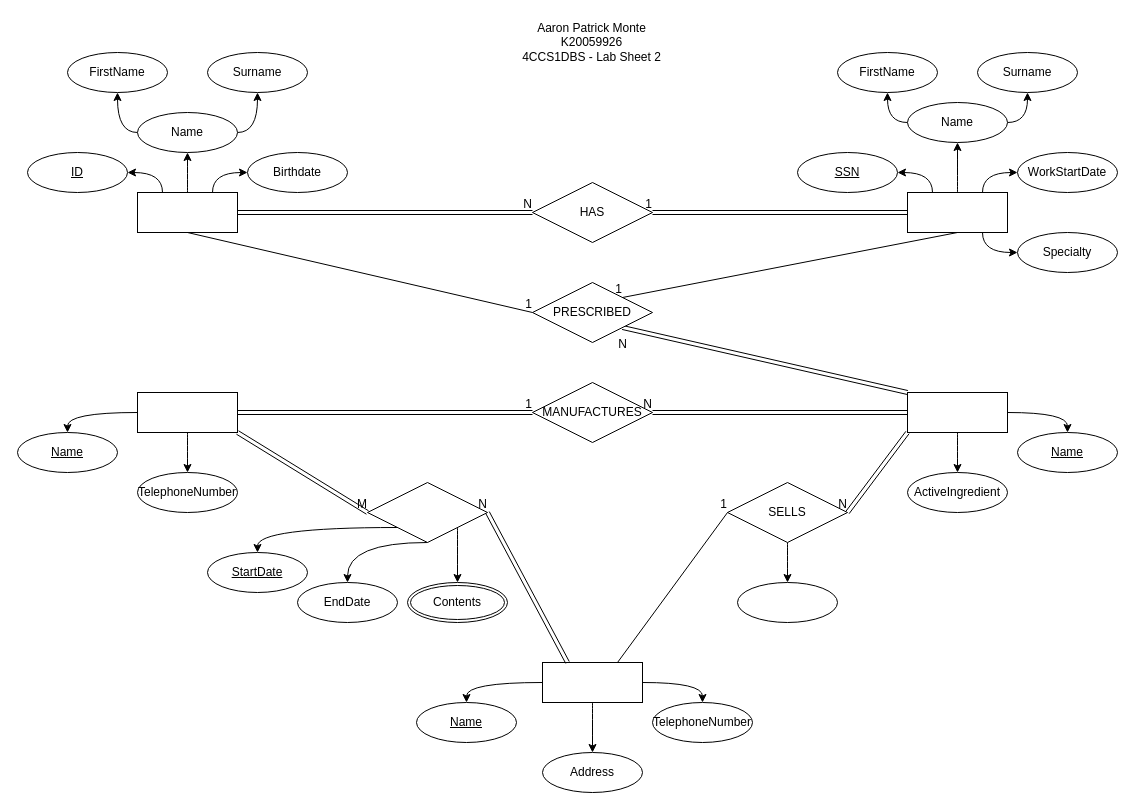
Some shapes in this 1135 by 810 pixel diagram are drawn without their labels. Here are the shapes that lost their labels. From the top down, the centre of each, then its label:
At pixel 187 212: "PATIENT".
At pixel 957 212: "DOCTOR".
At pixel 187 412: "COMPANY".
At pixel 957 412: "MEDICINE".
At pixel 427 512: "Contract".
At pixel 787 602: "Price".
At pixel 592 682: "PHARMACY".
